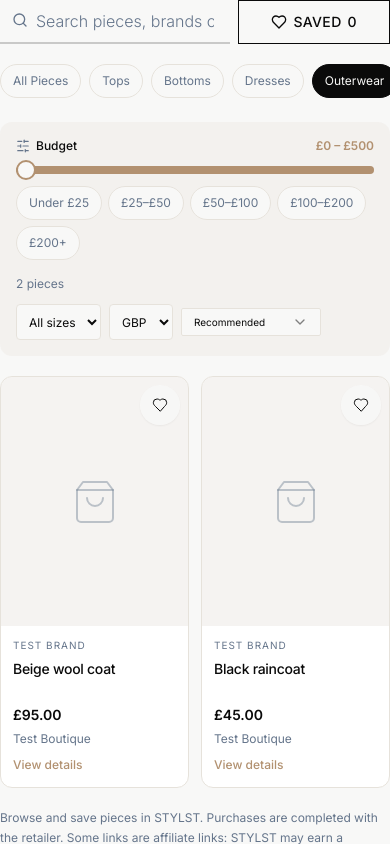
in-app shop journey › narrows a missing piece by category and budget and searches within the app
Expected: the button with aria-label "View Beige wool coat" is shown, [1, 377, 188, 787]
Click the button "£25–£50" at (146, 203), box [108, 186, 184, 220]
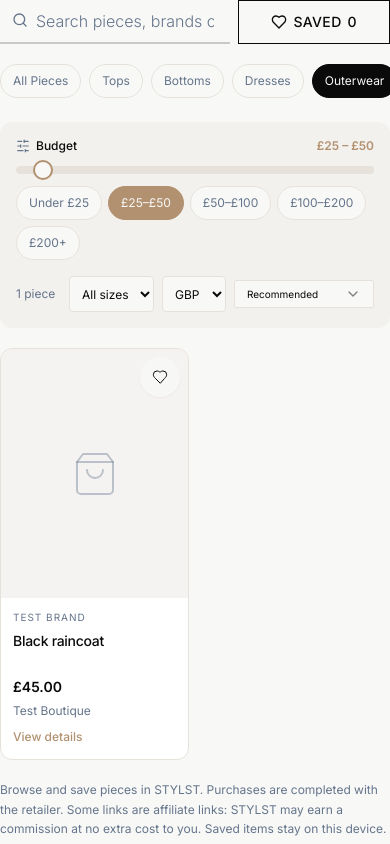
Expected: the button with aria-label "View Black raincoat" is shown, [1, 349, 188, 759]
Type "unfindable" into the field named "Search shop" at (115, 22), box [0, 0, 230, 44]
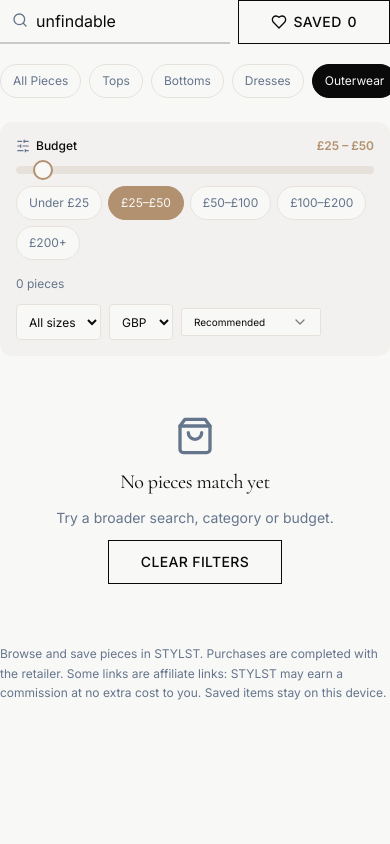
Expected: the heading "No pieces match yet" is shown, [120, 470, 270, 494]
Click the button "Clear filters" at (195, 562), box [108, 540, 282, 584]
(page scrolled)
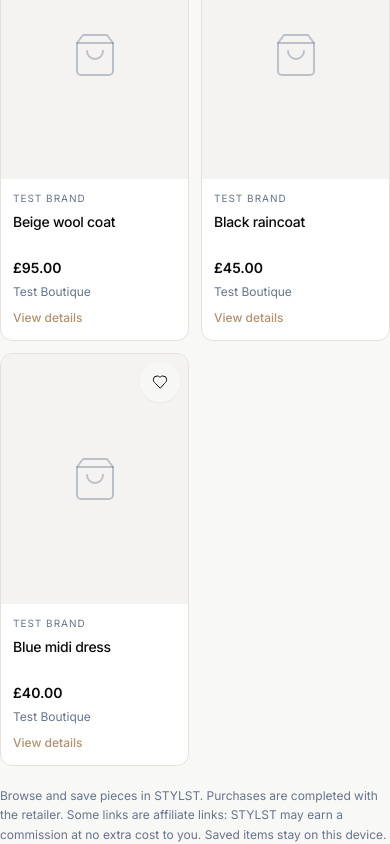
Expected: the button with aria-label "View Blue midi dress" is shown, [1, 354, 188, 765]
